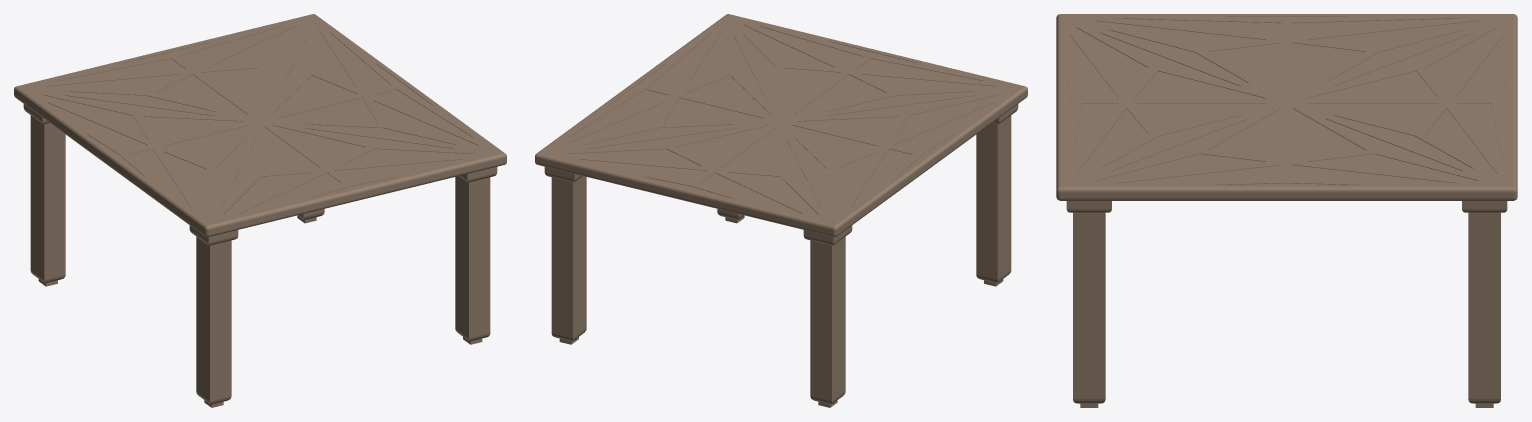
Rendered from sehpa1.fbx.
3 renders of one model, left to right at view 1: azimuth 30°, elevation 25°; view 2: azimuth 150°, elevation 25°; view 3: azimuth 270°, elevation 25°, orthographic. The views are drawn at different scales.
Parts seen in each view (by area): view 1: Plane; view 2: Plane; view 3: Plane.
Part boxes in pixels (x1,y1,x2,y2): Plane: (14,14,506,407); Plane: (535,14,1027,407); Plane: (1056,14,1517,407).
Bounding box in the file's own units: 180 × 109 × 200.
